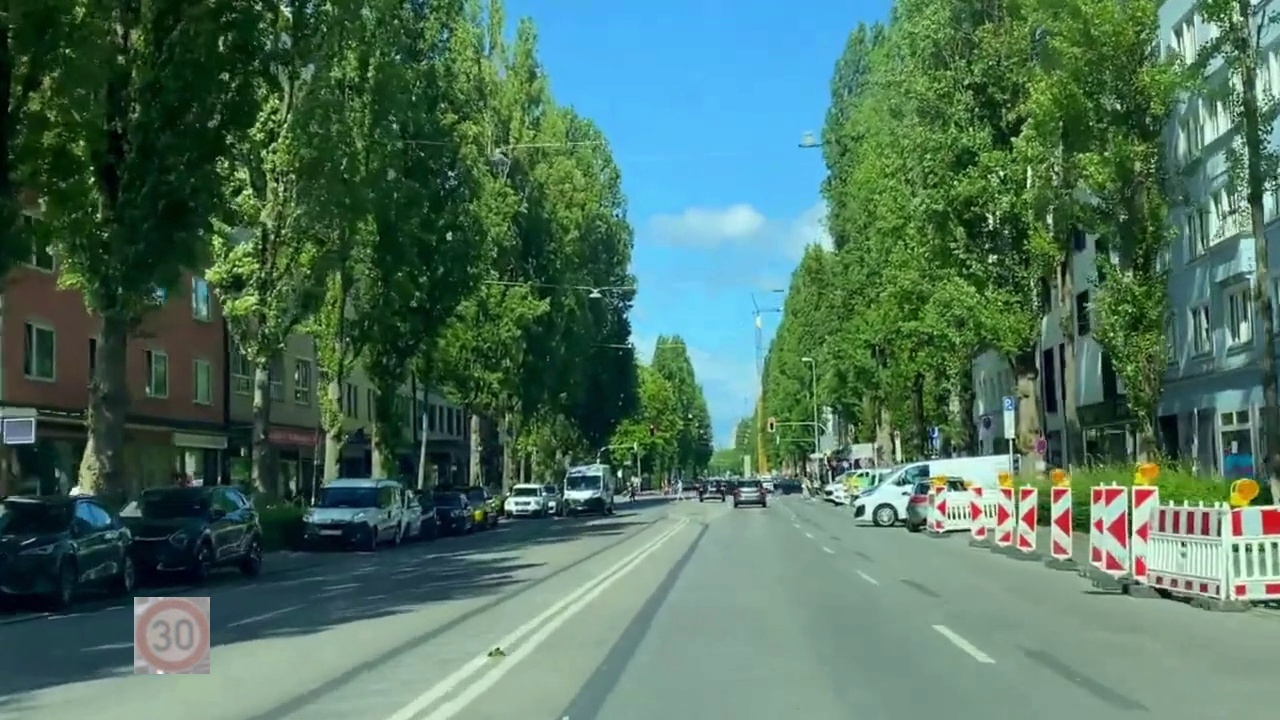Speed 30: (134, 597, 210, 674)
